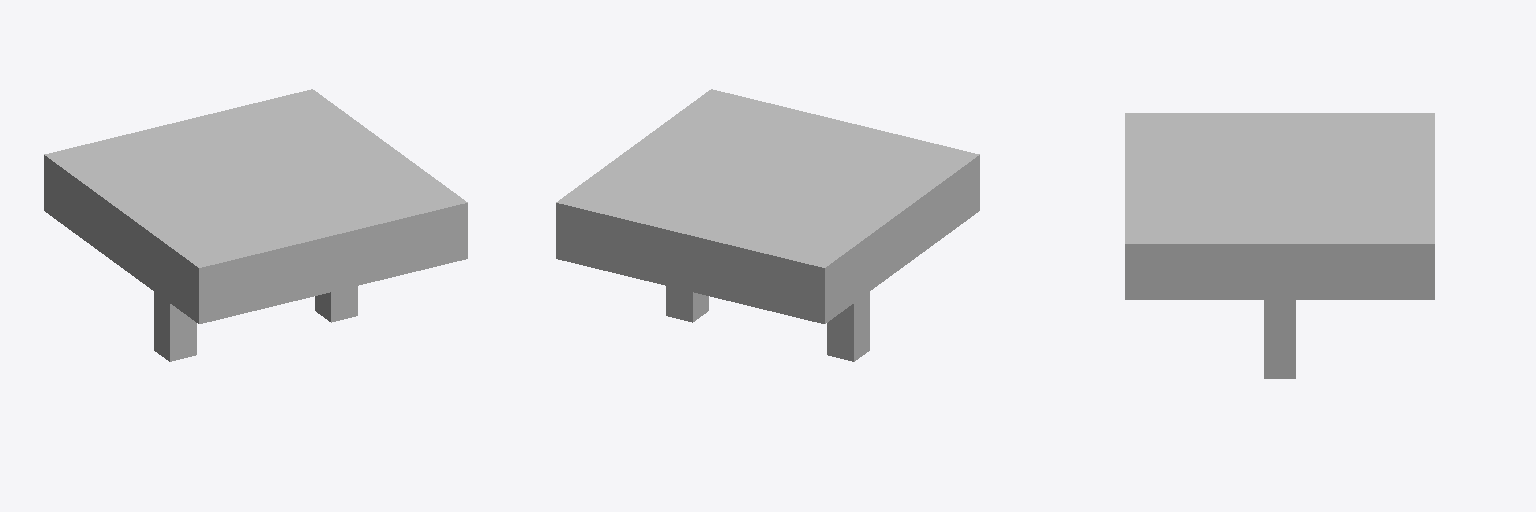
The model's file is repeateroff-4.obj.
3 renders of one model, left to right at view 1: azimuth 30°, elevation 25°; view 2: azimuth 150°, elevation 25°; view 3: azimuth 270°, elevation 25°, orthographic.
Parts seen in each view (by area): view 1: Cube.001, Cube.004, Cube.005, Cube.002; view 2: Cube.001, Cube.004, Cube.005, Cube.002; view 3: Cube.001, Cube.003, Cube.005.
Part boxes in pixels (x1,y1,x2,y2): Cube.001: (44, 89, 467, 323); Cube.004: (154, 323, 196, 361); Cube.005: (315, 288, 357, 322); Cube.002: (154, 292, 196, 333); Cube.001: (556, 89, 979, 323); Cube.004: (827, 323, 869, 361); Cube.005: (666, 288, 708, 322); Cube.002: (827, 292, 869, 333); Cube.001: (1125, 113, 1434, 299); Cube.003: (1264, 300, 1295, 350); Cube.005: (1264, 351, 1295, 378).
Size of the model in its own units: 1 by 0.55 by 1.